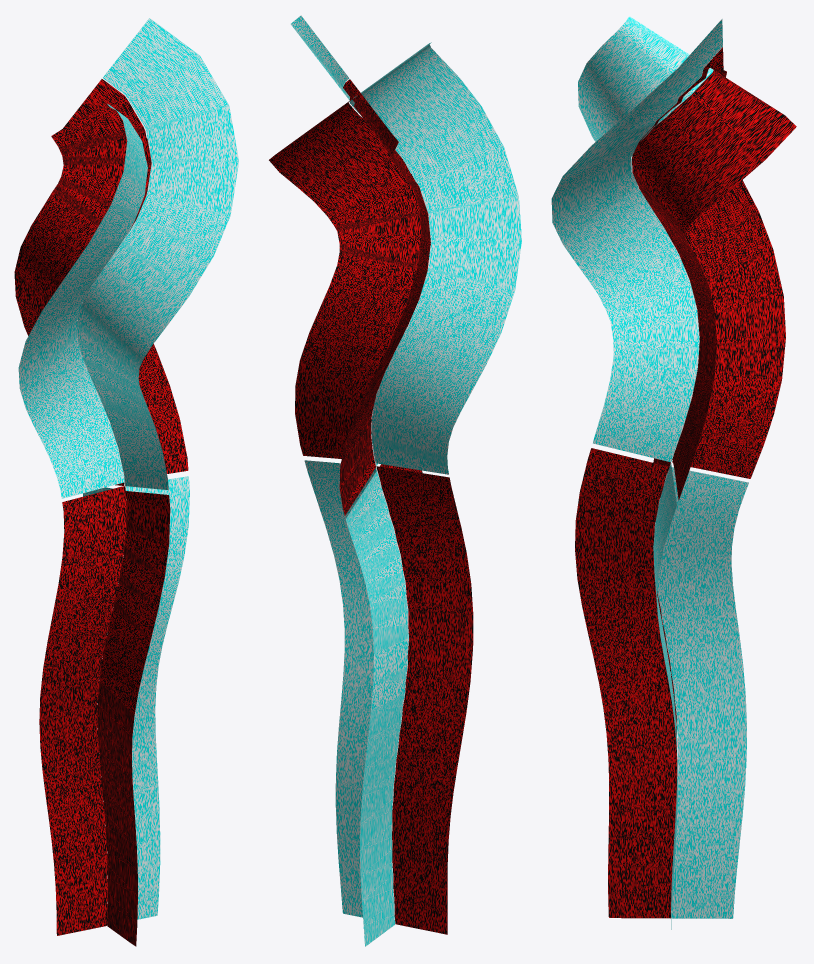
Rendered from SM_Helix_02_GDH.fbx.
3 views of the same model, side by side, from view 1: azimuth 30°, elevation 25°; view 2: azimuth 150°, elevation 25°; view 3: azimuth 270°, elevation 25° (orthographic). The views are drawn at different scales.
Parts seen in each view (by area): view 1: SM_Helix_02_GDH; view 2: SM_Helix_02_GDH; view 3: SM_Helix_02_GDH.
Part boxes in pixels (x1=…): SM_Helix_02_GDH: x1=14, y1=18, x2=238, y2=946; SM_Helix_02_GDH: x1=269, y1=15, x2=521, y2=946; SM_Helix_02_GDH: x1=551, y1=16, x2=796, y2=929.
Size of the model in its own units: 52.88 by 219 by 52.33.
